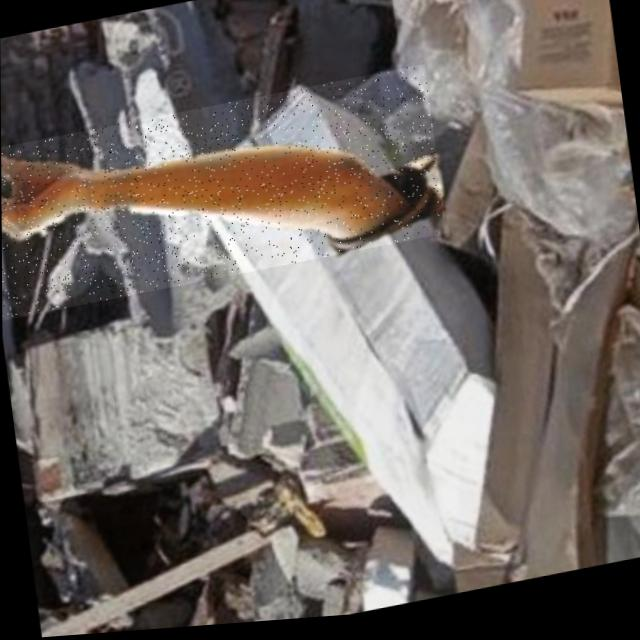Person in Rubble: (1, 67, 446, 319)
